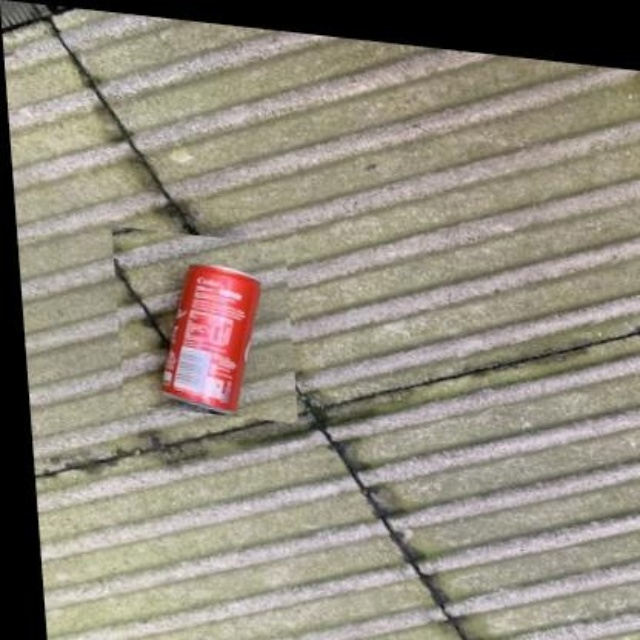trash: (163, 265, 258, 411)
